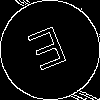E: (25, 25, 73, 80)
